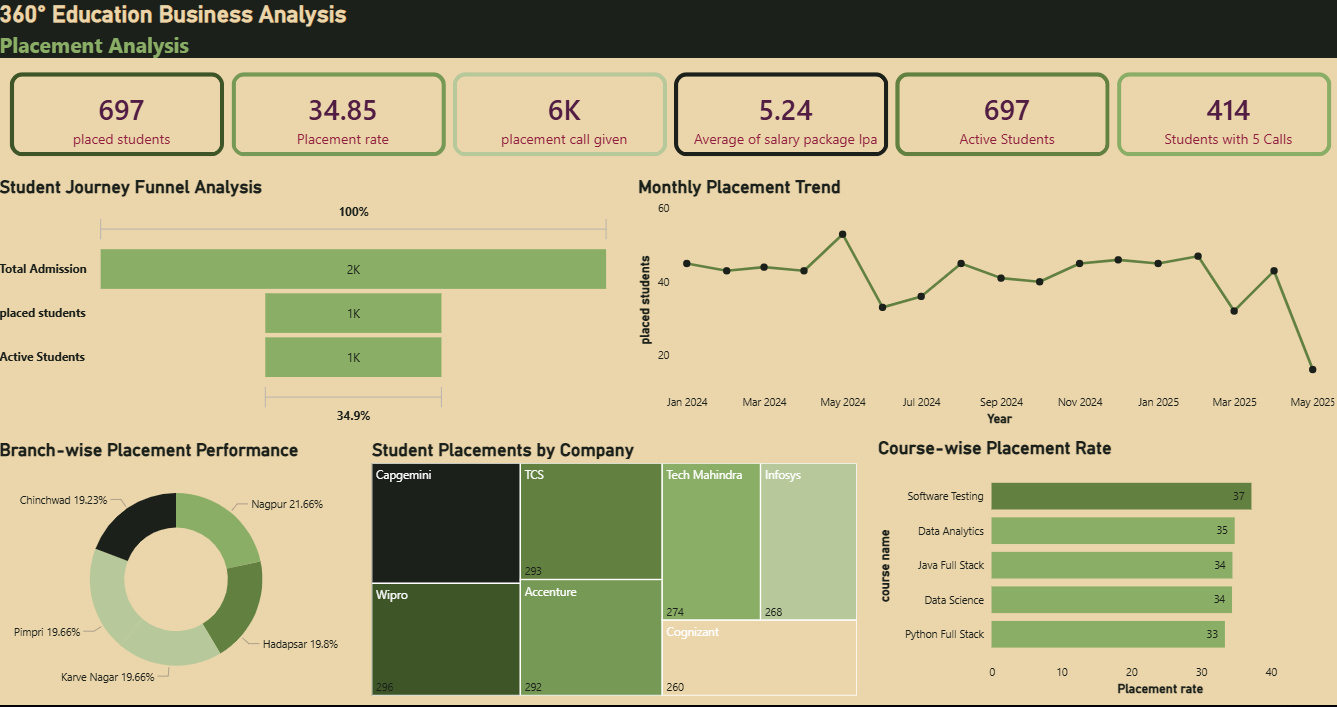

Layout of this report page (visuals, bound fields, positions):
{"tool":"powerbi","page":{"name":"Placement analysis","canvas":[1600,900],"ordinal":2},"visuals":[{"type":"funnel","title":"Student Journey Funnel Analysis","fields":{"Y":["student measure.Total Admission","placement measures.placed students","placement measures.Active Students"]},"box":[0,201.4,708.6,290],"z":0},{"type":"clusteredBarChart","title":"Course-wise Placement Rate ","fields":{"Category":["Courses.course name"],"Y":["placement measures.Placement rate"]},"box":[1004.3,500,532.9,300],"z":1000},{"type":"lineChart","title":"Monthly Placement Trend ","fields":{"Y":["placement measures.placed students"],"Category":["Admissions.admission date.Variation.Date Hierarchy.Year","Admissions.admission date.Variation.Date Hierarchy.Month"]},"box":[730,201.4,807.1,290],"z":2000},{"type":"treemap","title":"Student Placements by Company","fields":{"Group":["Placements.company name"],"Values":["CountNonNull(Placements.student id)"]},"box":[425.7,501.4,564.3,298.6],"z":3000},{"type":"donutChart","title":"Branch-wise Placement Performance","fields":{"Category":["Branches.branch name"],"Y":["placement measures.placed students"]},"box":[0,501.4,414.3,298.6],"z":4000},{"type":"textbox","title":"360° Education Business Analysis","box":[0,0,1544.3,65.7],"z":5000},{"type":"cardVisual","fields":{"Data":["placement measures.placed students","placement measures.Placement rate","placement measures.placement call given","Avg(Placements.salary package lpa)","placement measures.Active Students","placement measures.Students with 5 Calls"]},"box":[0,65.7,1544.3,130],"z":6000}]}

Visuals, with their boxes on the page's 1600x900 design canvas (x1, y1, x2, y2). These are canvas units, not pixel positions in the 1337x707 screenshot, which may show the page scaled, cropped or inside an application window:
"Student Journey Funnel Analysis" funnel: locate(0, 201, 709, 491)
"Course-wise Placement Rate " clusteredBarChart: locate(1004, 500, 1537, 800)
"Monthly Placement Trend " lineChart: locate(730, 201, 1537, 491)
"Student Placements by Company" treemap: locate(426, 501, 990, 800)
"Branch-wise Placement Performance" donutChart: locate(0, 501, 414, 800)
"360° Education Business Analysis" textbox: locate(0, 0, 1544, 66)
cardVisual - placement measures.placed students x placement measures.Placement rate: locate(0, 66, 1544, 196)
